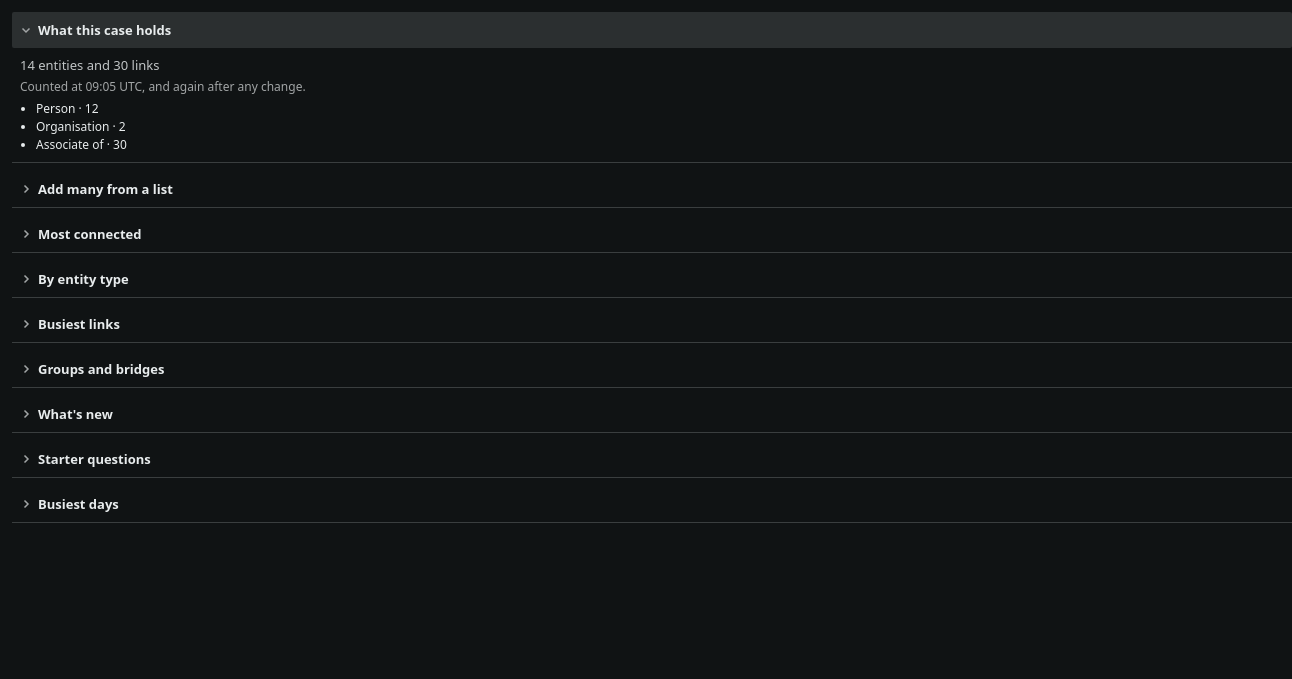
Test: ExplorePanel › pages the ranking rather than stopping, and says when all are shown
Click the button "Most connected" at coordinates (90, 234), box top-left (12, 216), bottom-right (1291, 252)
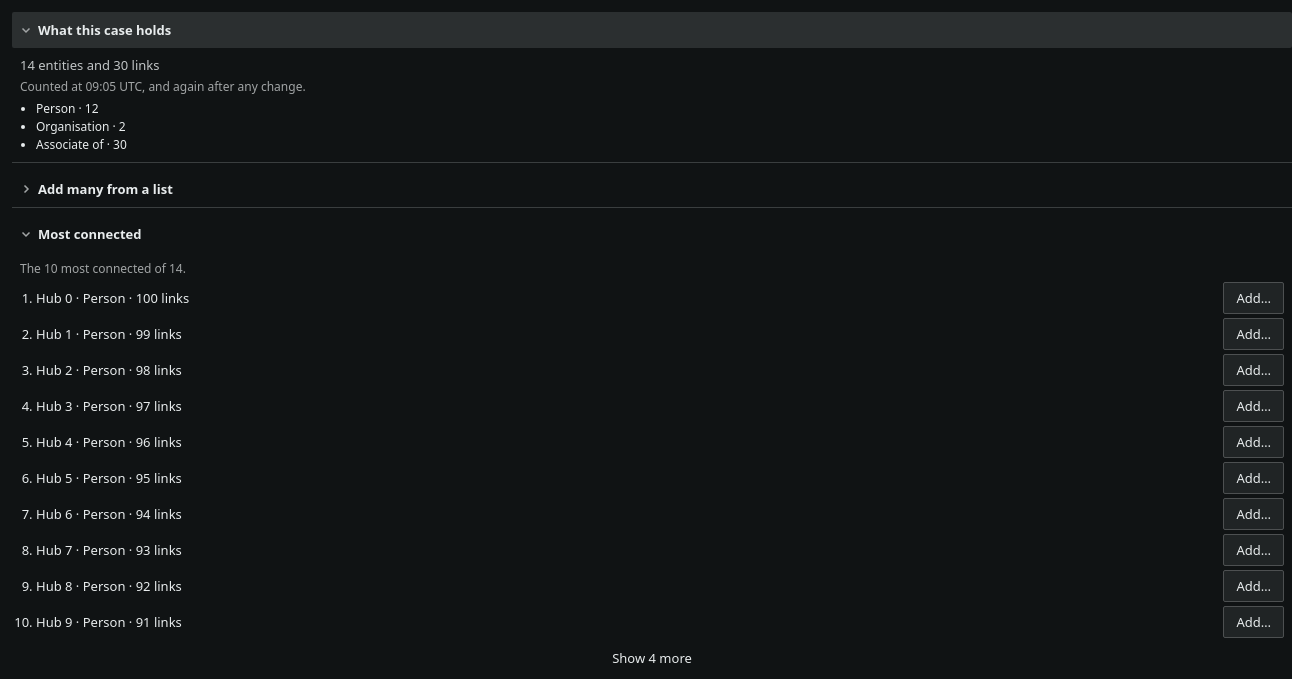
Click the button "Show 4 more" at coordinates (652, 658), box top-left (20, 642), bottom-right (1284, 674)
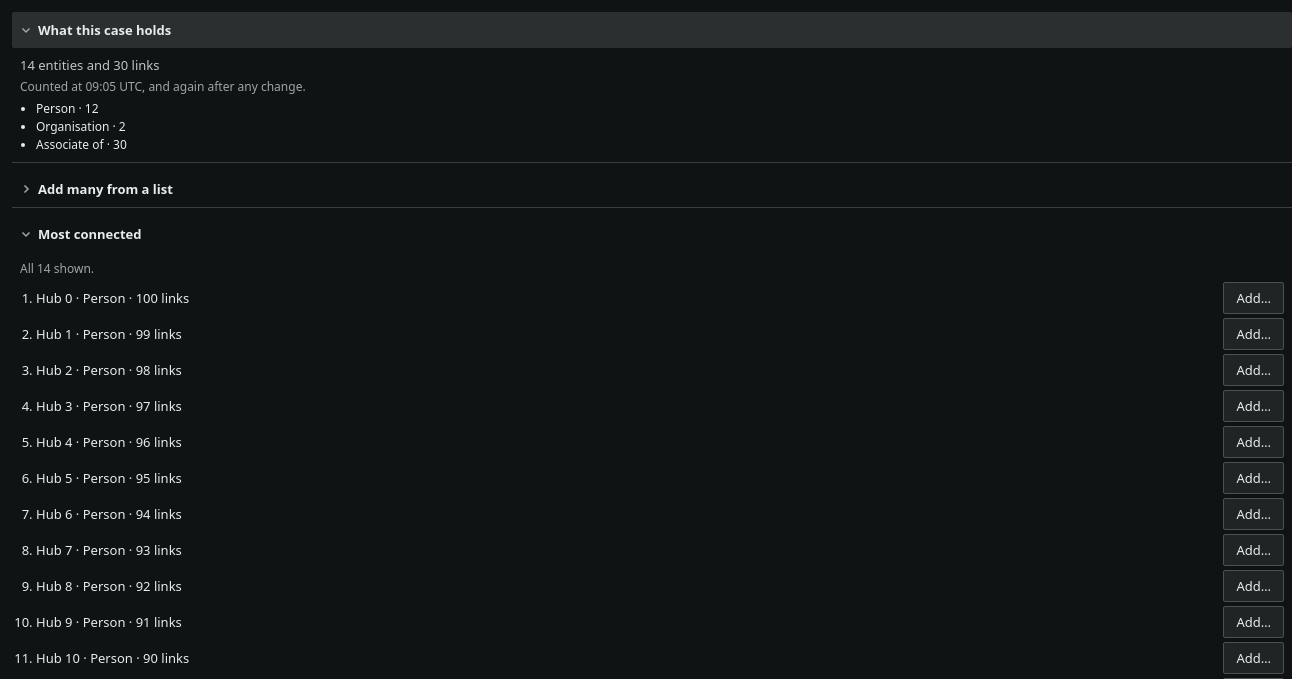
Check: the text "All 14 shown." is shown, box top-left (20, 260), bottom-right (94, 277)
Check: the button "Show 4 more" is gone
